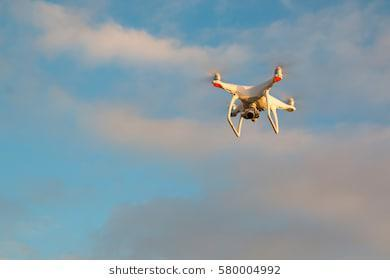drone: (210, 65, 297, 138)
